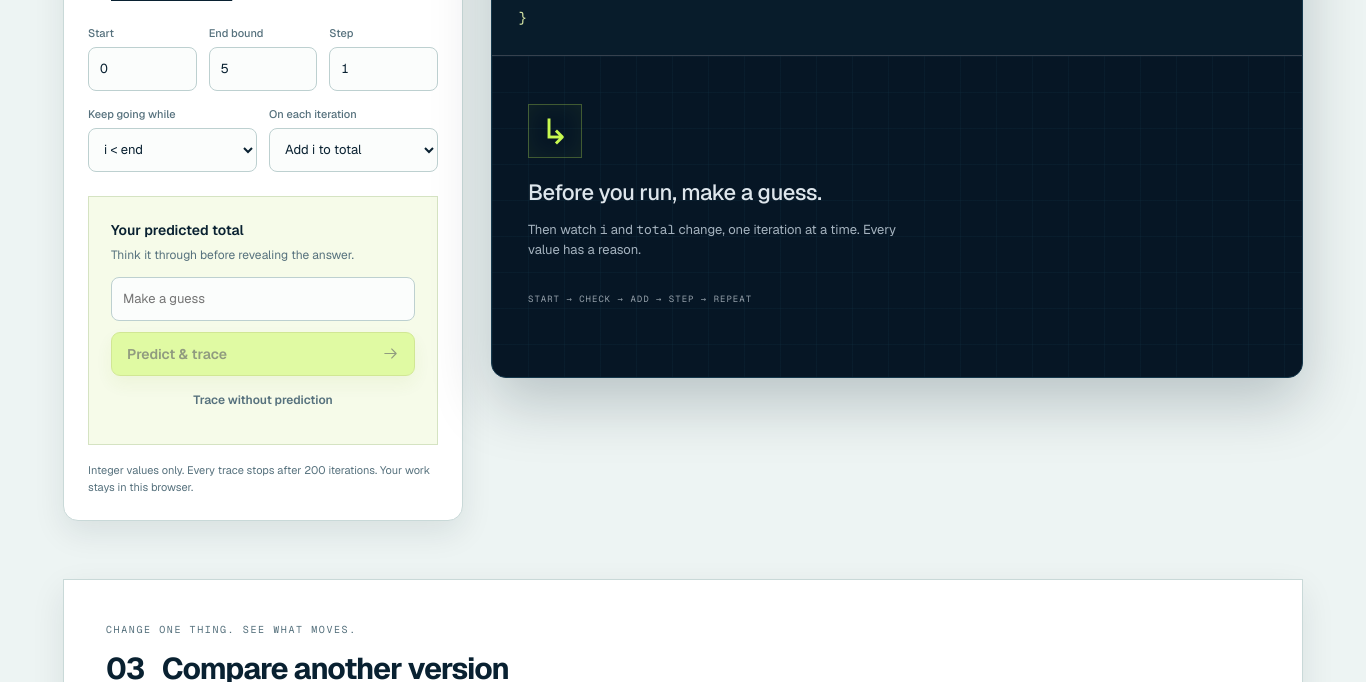
Test case: learning flow › recovers malformed browser state and resets predictably
The width and height of the screenshot is (1366, 682).
(page scrolled)
Type "99" into the number field labelled "Your predicted total" at (263, 299), box [111,277,415,321]
(page scrolled)
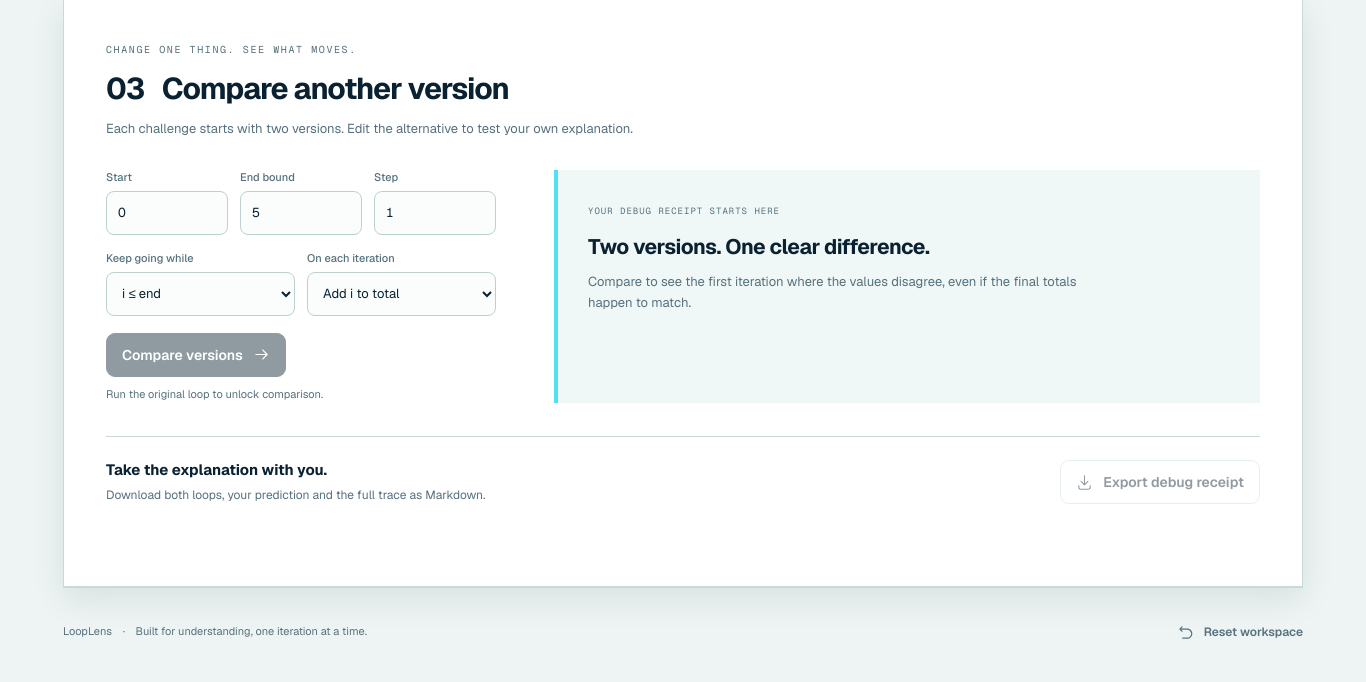
Click the button "Reset workspace" at (1240, 632), box [1177,610,1303,654]
(page scrolled)
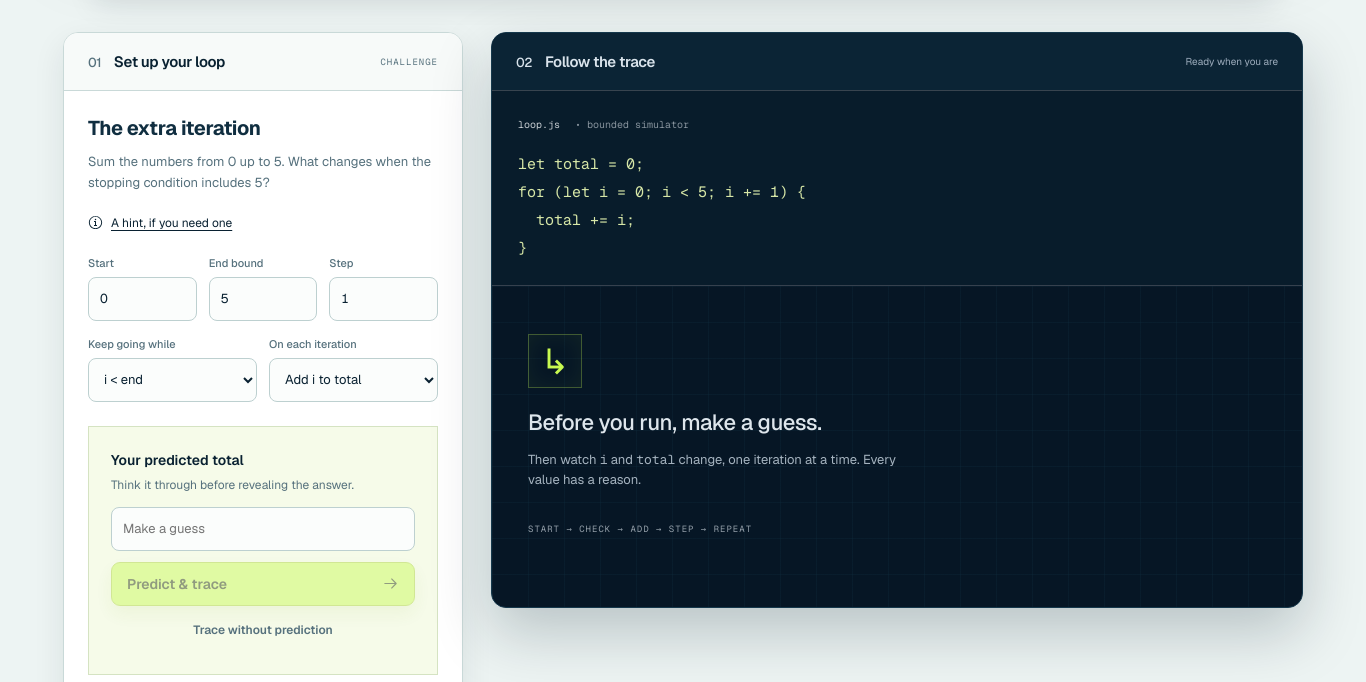
Expected: the number field named "Original start" holds "0", [88,277,197,321]
Result: the number field labelled "Your predicted total" is not empty at [111,507,415,551]
